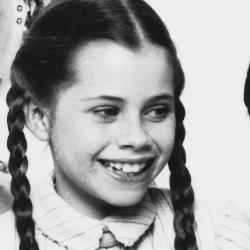face: (3, 1, 204, 246)
